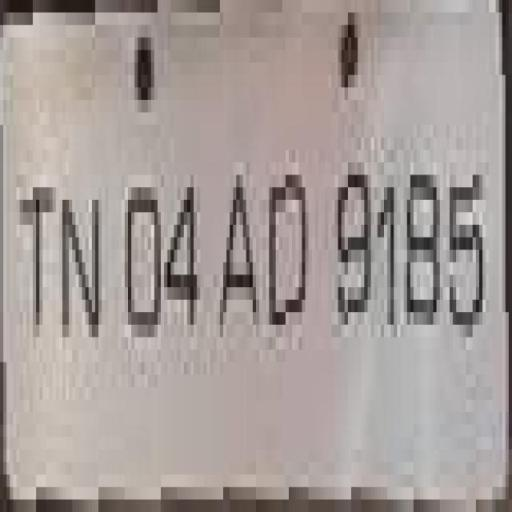number plate: (13, 0, 512, 462)
